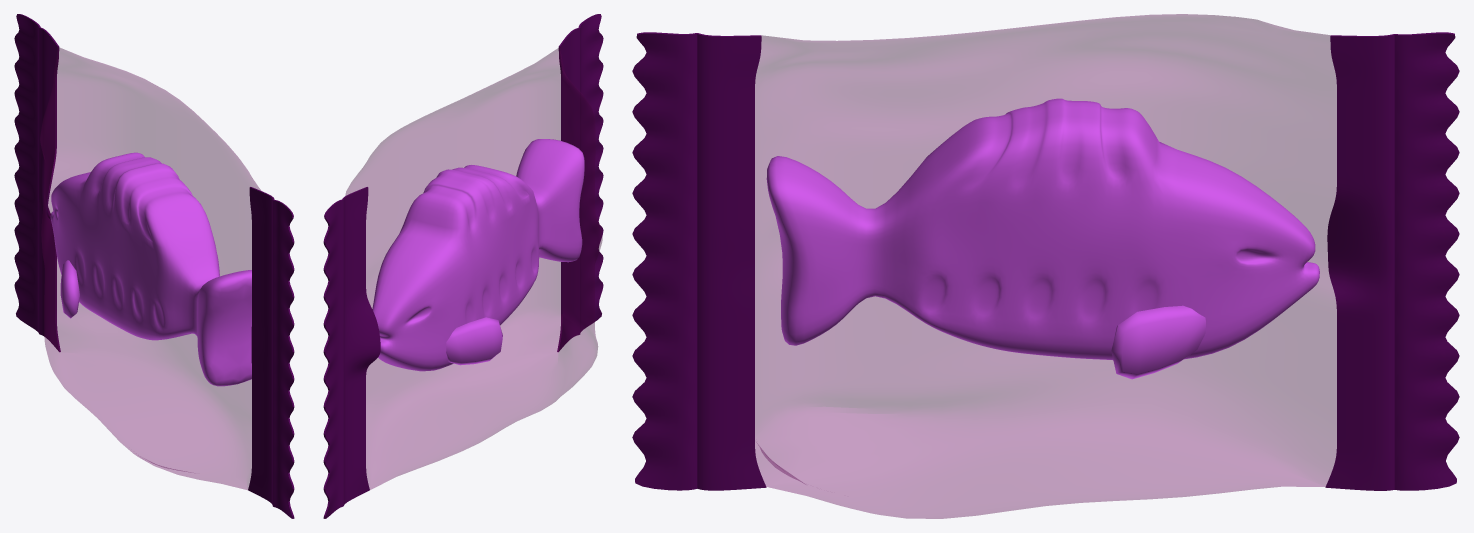
File: morbalik.fbx
3 renders of one model, left to right at view 1: azimuth 30°, elevation 25°; view 2: azimuth 150°, elevation 25°; view 3: azimuth 270°, elevation 25°, orthographic. The views are drawn at different scales.
Parts seen in each view (by area): view 1: ambalaj, Cube.001, ambalaj.001; view 2: ambalaj, Cube.001, ambalaj.001; view 3: ambalaj, ambalaj.001, Cube.001.
Part boxes in pixels (x1=…): ambalaj: x1=40, y1=47, x2=260, y2=489; Cube.001: x1=50, y1=152, x2=251, y2=386; ambalaj.001: x1=14, y1=14, x2=294, y2=518; ambalaj: x1=345, y1=47, x2=602, y2=489; Cube.001: x1=372, y1=139, x2=584, y2=371; ambalaj.001: x1=323, y1=14, x2=603, y2=518; ambalaj: x1=755, y1=14, x2=1336, y2=518; ambalaj.001: x1=632, y1=32, x2=1459, y2=490; Cube.001: x1=766, y1=98, x2=1319, y2=379.
Bounding box in the file's own units: 46.21 × 109 × 174.
